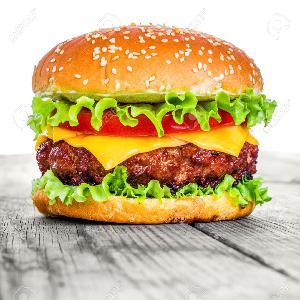cheeseburger_475cal: (16, 17, 283, 232)
